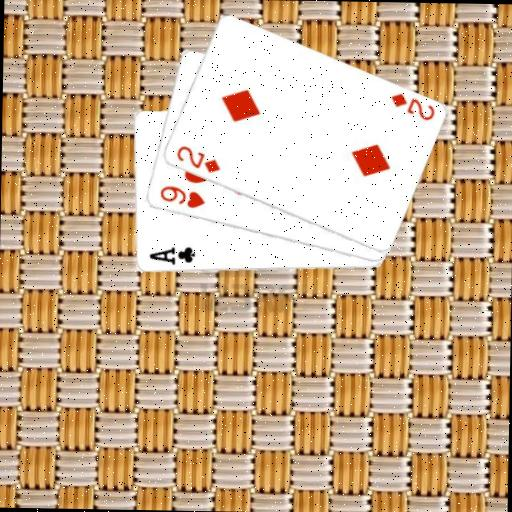2D: (172, 142, 222, 175), (387, 90, 436, 123)
9H: (156, 182, 206, 210)
AC: (146, 243, 197, 267)
